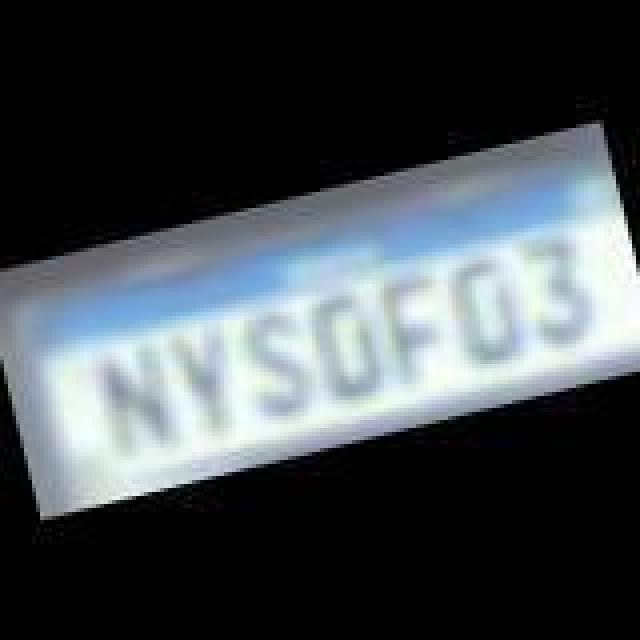3: (508, 226, 604, 350)
D: (444, 244, 532, 364), (302, 284, 386, 404)
F: (368, 260, 464, 388)
N: (88, 336, 184, 464)
S: (232, 296, 328, 424)
Y: (160, 316, 256, 444)
